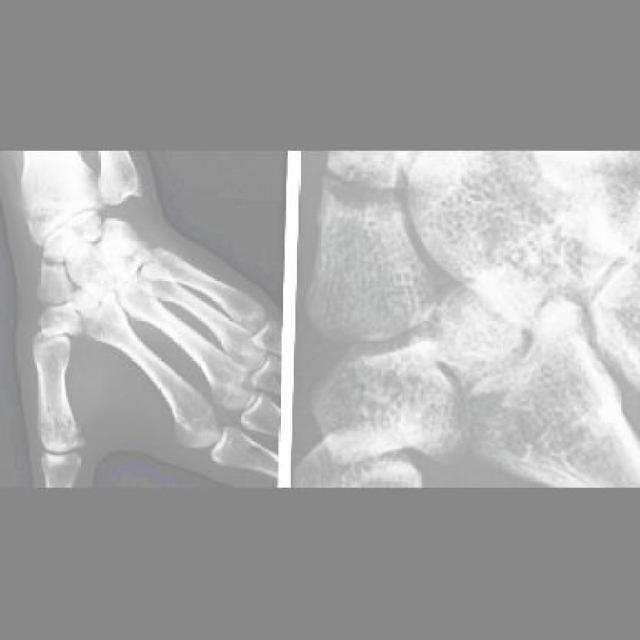Fracture: (379, 314, 527, 439), (57, 305, 93, 334)
